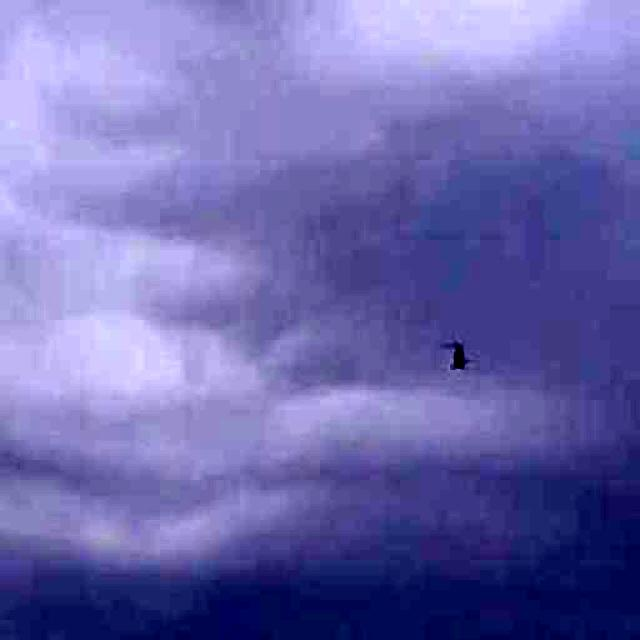drone: (421, 311, 501, 395)
